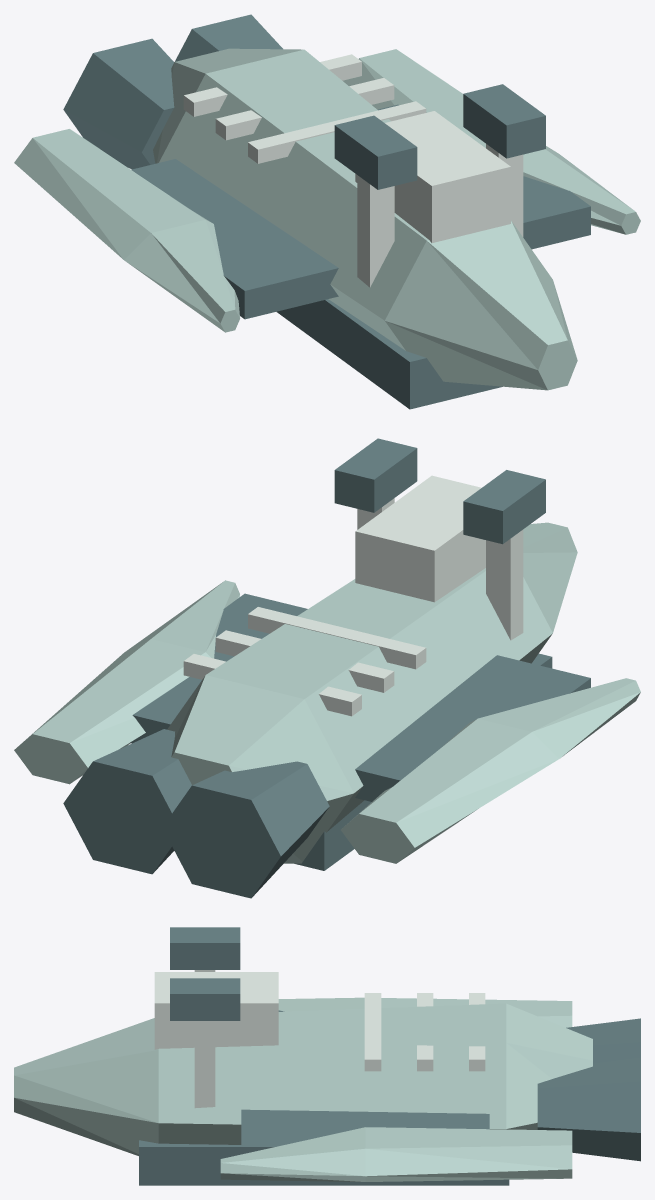
3 views of the same model, one above another, from view 1: azimuth 30°, elevation 25°; view 2: azimuth 150°, elevation 25°; view 3: azimuth 270°, elevation 25° (orthographic). The views are drawn at different scales.
Size of the model in its own units: 4.19 by 2.22 by 6.43.
